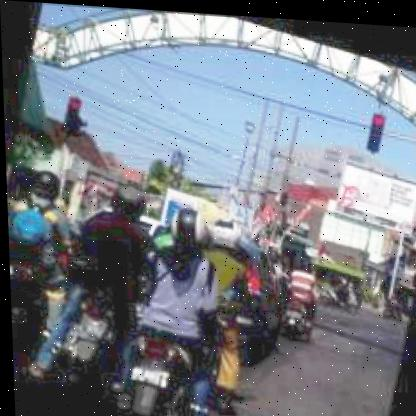Traffic Light -Red-: (60, 97, 83, 138), (363, 110, 384, 149)
